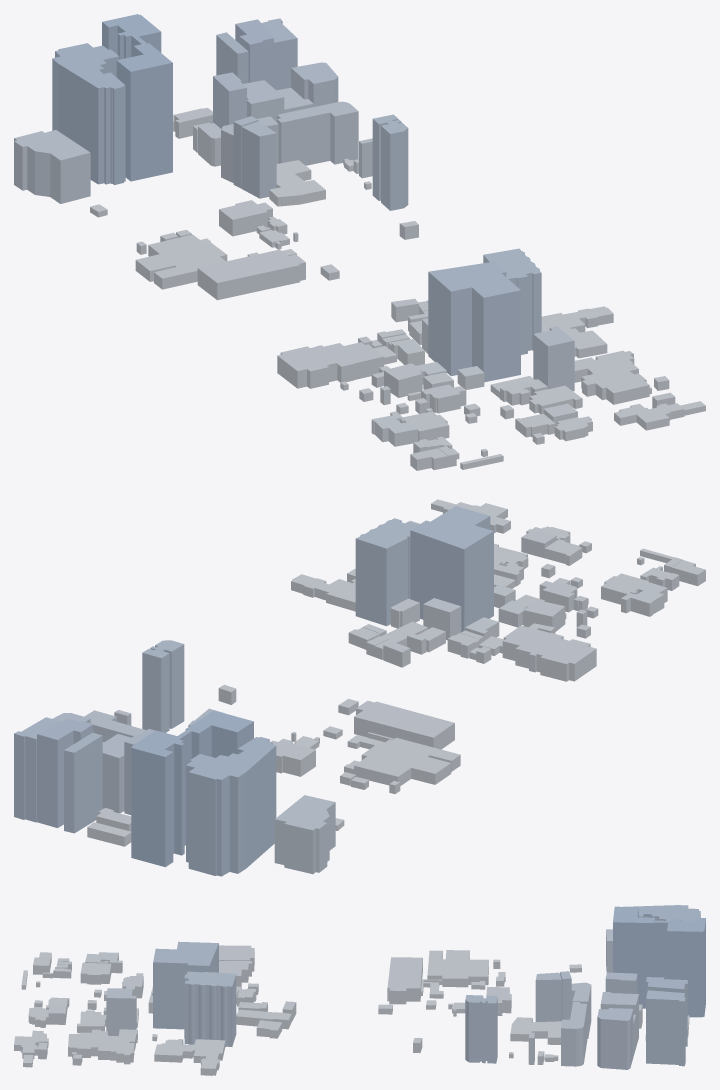
3 views of the same model, one above another, from view 1: azimuth 30°, elevation 25°; view 2: azimuth 150°, elevation 25°; view 3: azimuth 270°, elevation 25° (orthographic). The views are drawn at different scales.
Bounding box in the file's own units: 178 × 60.01 × 439.
